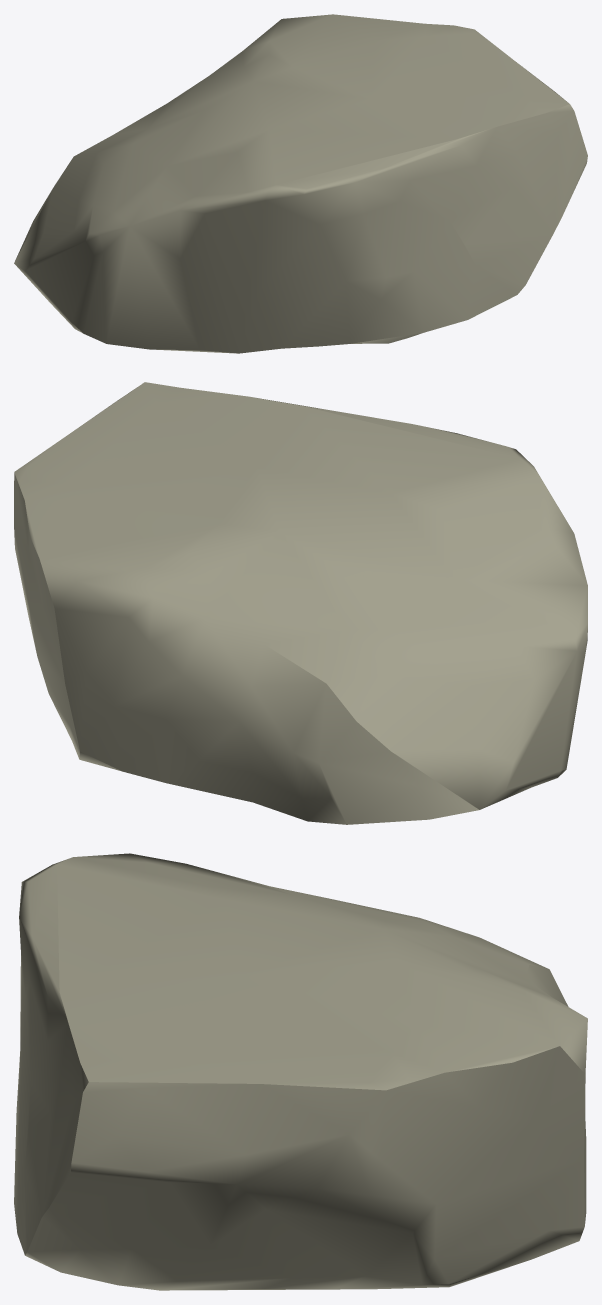
3 views of the same model, one above another, from view 1: azimuth 30°, elevation 25°; view 2: azimuth 150°, elevation 25°; view 3: azimuth 270°, elevation 25° (orthographic). The views are drawn at different scales.
Parts seen in each view (by area): view 1: SM_BM_Cliff_Sm_Rocks_03_LOD0; view 2: SM_BM_Cliff_Sm_Rocks_03_LOD0; view 3: SM_BM_Cliff_Sm_Rocks_03_LOD0.
Part boxes in pixels (x1,y1,x2,y2): SM_BM_Cliff_Sm_Rocks_03_LOD0: (14, 14, 587, 353); SM_BM_Cliff_Sm_Rocks_03_LOD0: (14, 382, 587, 824); SM_BM_Cliff_Sm_Rocks_03_LOD0: (14, 853, 587, 1290).
Bounding box in the file's own units: 0.6433 × 0.2637 × 0.5043.
